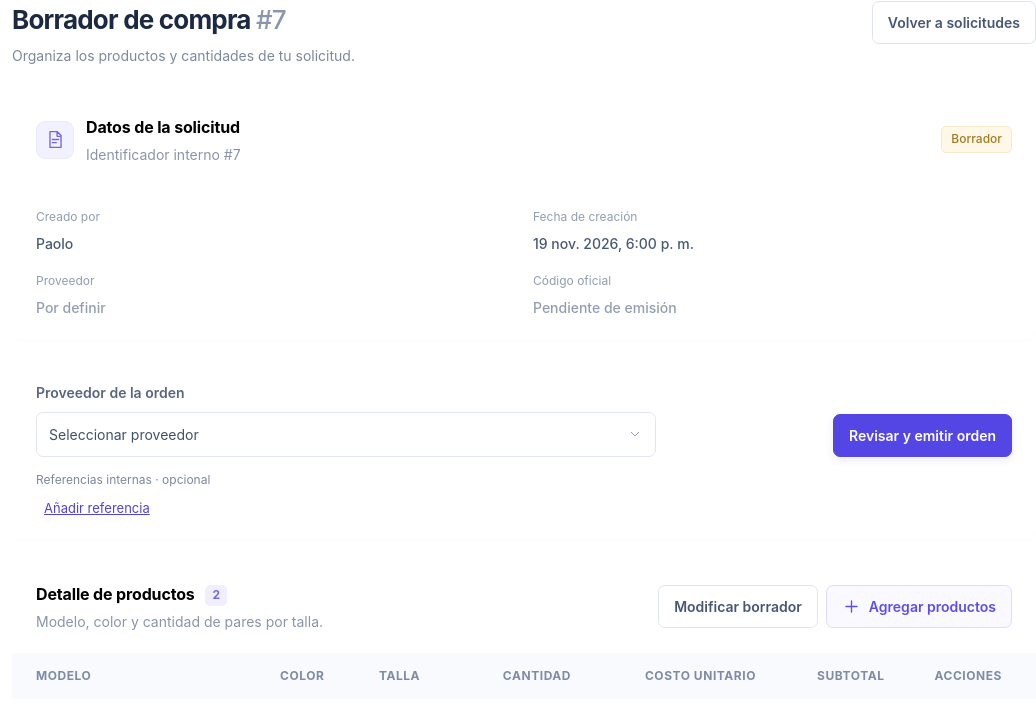
Test: permite deshacer eliminaciones y rechaza cantidades vacías o cero
The image size is (1036, 714).
Click the button "Modificar borrador". click: (738, 607)
box: 658,585 -> 818,628
(page scrolled)
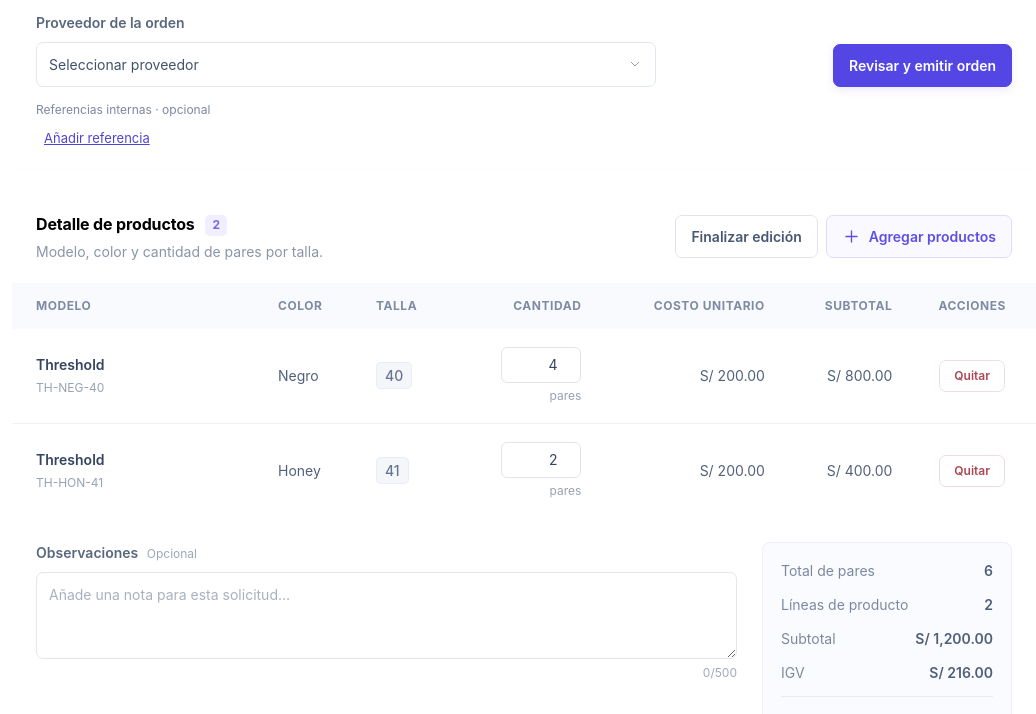
Clear the number field named "Cantidad de Threshold, talla 40, Negro". click: (541, 365)
box: 501,347 -> 581,383
(page scrolled)
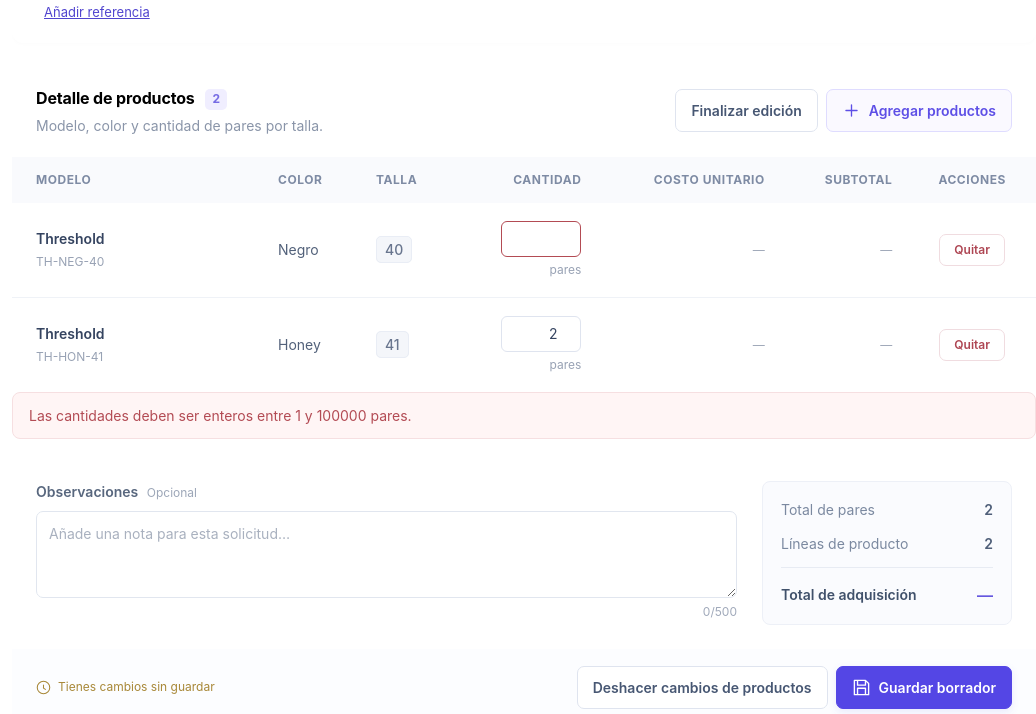
Expected: the button "Guardar borrador" is disabled, 836,666 -> 1012,709
Click the button "Deshacer cambios de productos". click: (702, 687)
box: 577,666 -> 828,709
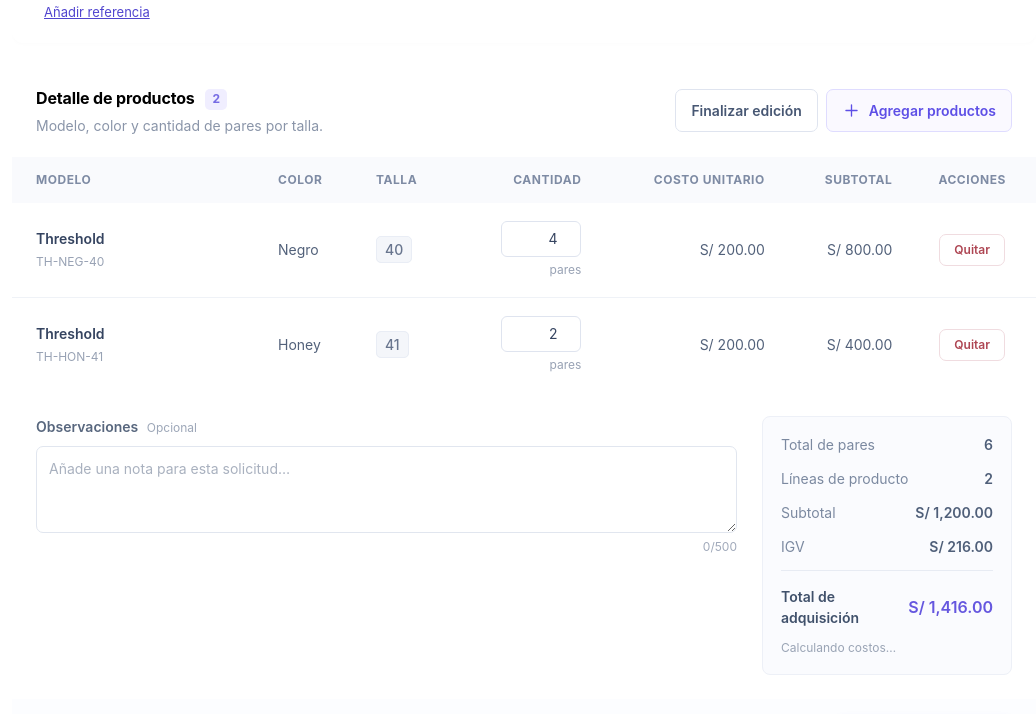
Expected: the number field named "Cantidad de Threshold, talla 40, Negro" holds "4", 501,221 -> 581,257
Click the button with aria-label "Quitar Threshold, talla 40, Negro". click: (972, 250)
box: 939,234 -> 1005,266
(page scrolled)
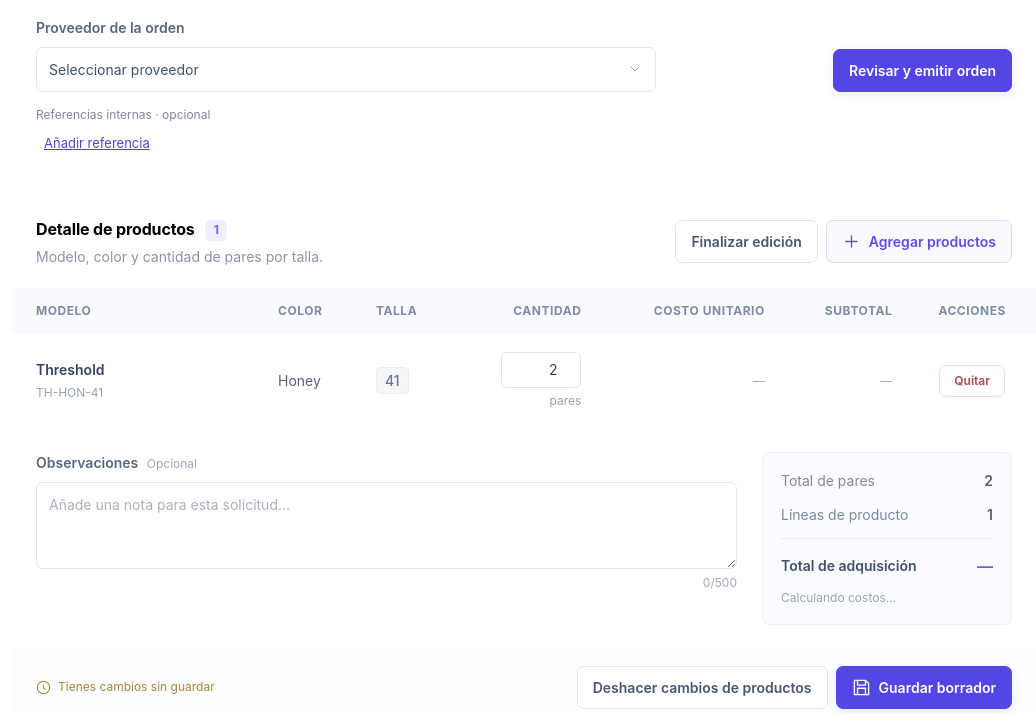
Click the button "Deshacer cambios de productos". click: (702, 687)
box: 577,666 -> 828,709
(page scrolled)
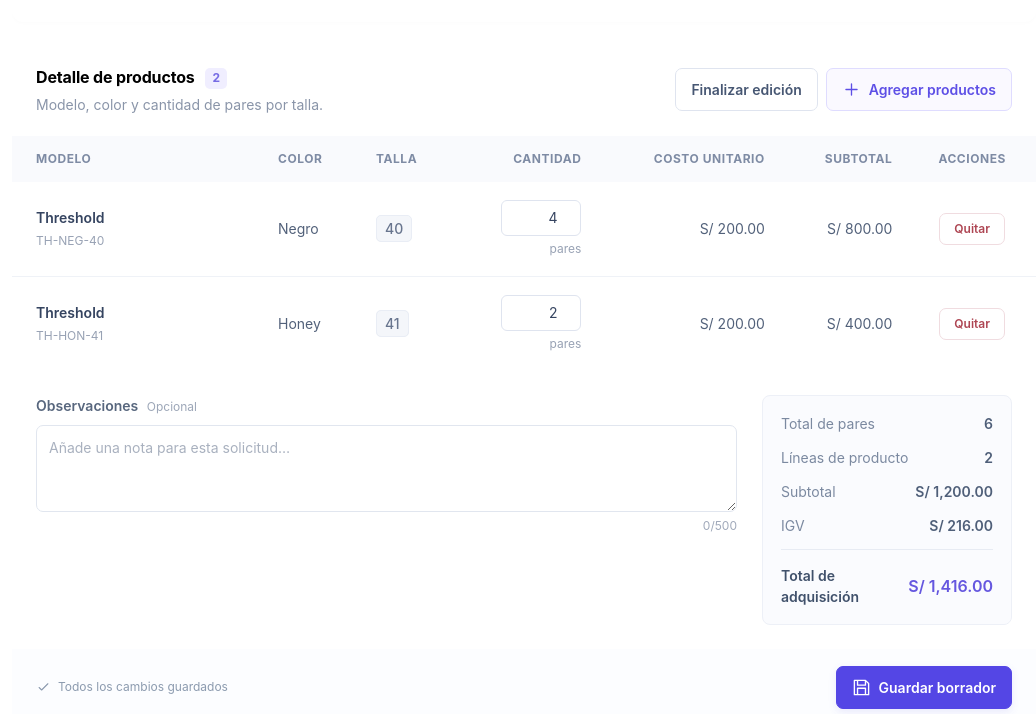
Expected: the button "Guardar borrador" is disabled, 836,666 -> 1012,709
Expected: the text "TH-NEG-40" is shown, 36,233 -> 104,248
